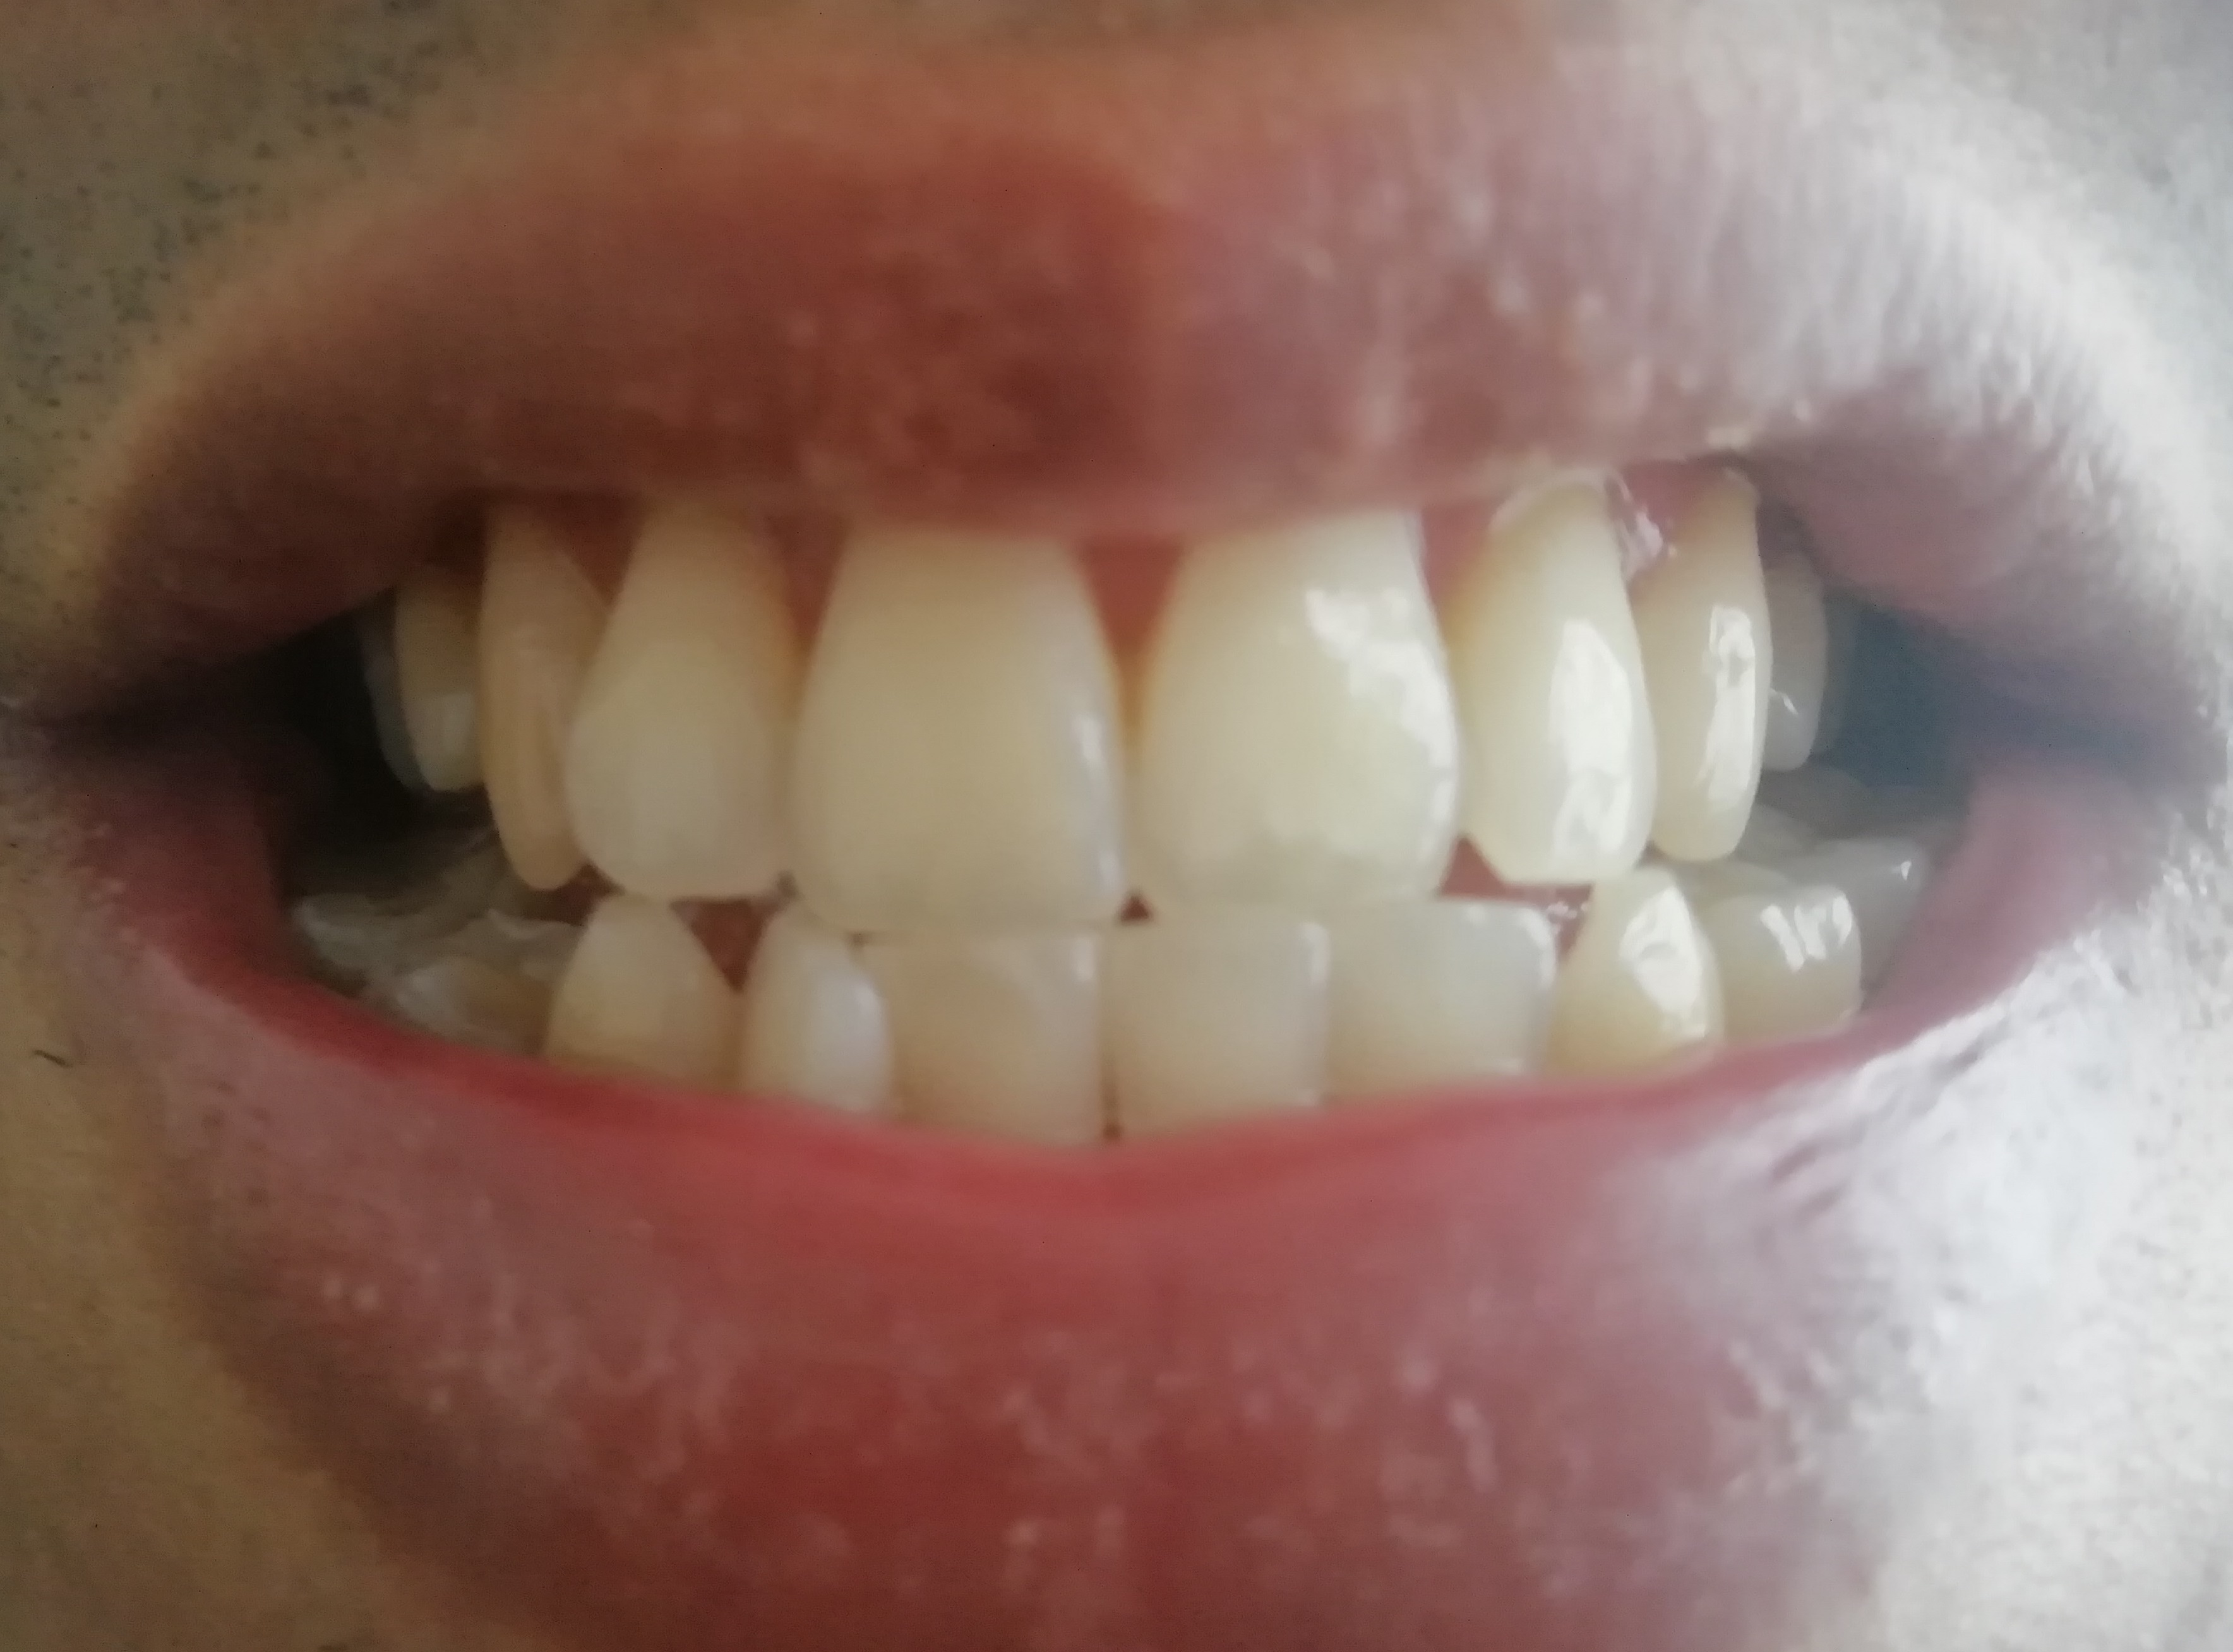boca: (342, 479, 1935, 1138)
